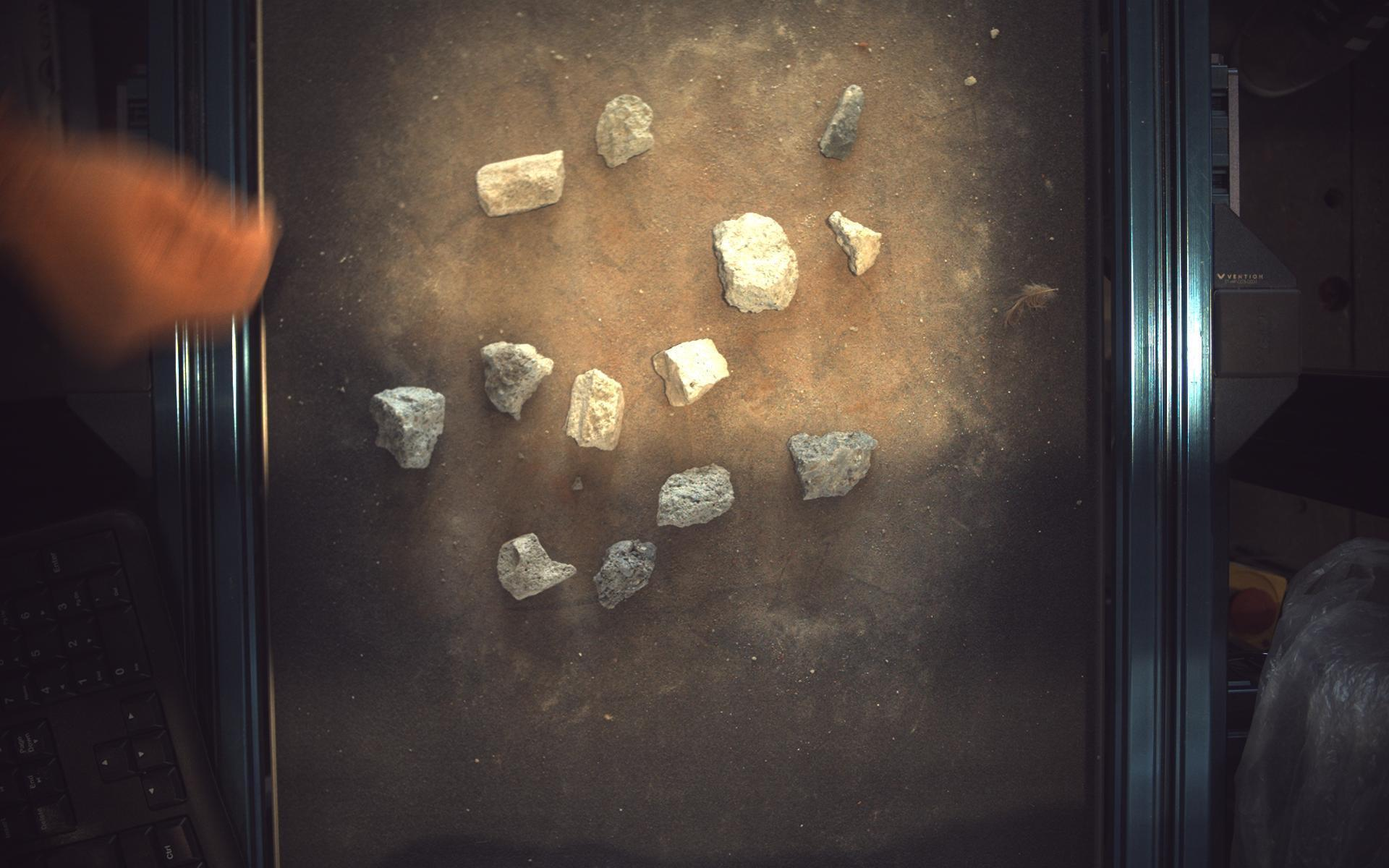concrete: (714, 212, 800, 312), (790, 431, 879, 501), (370, 386, 444, 469), (476, 149, 566, 216), (482, 341, 553, 420), (653, 339, 730, 407), (498, 534, 577, 600), (565, 368, 625, 451), (658, 464, 735, 528), (594, 540, 657, 610), (597, 93, 655, 166), (829, 210, 883, 275), (820, 83, 866, 158)
